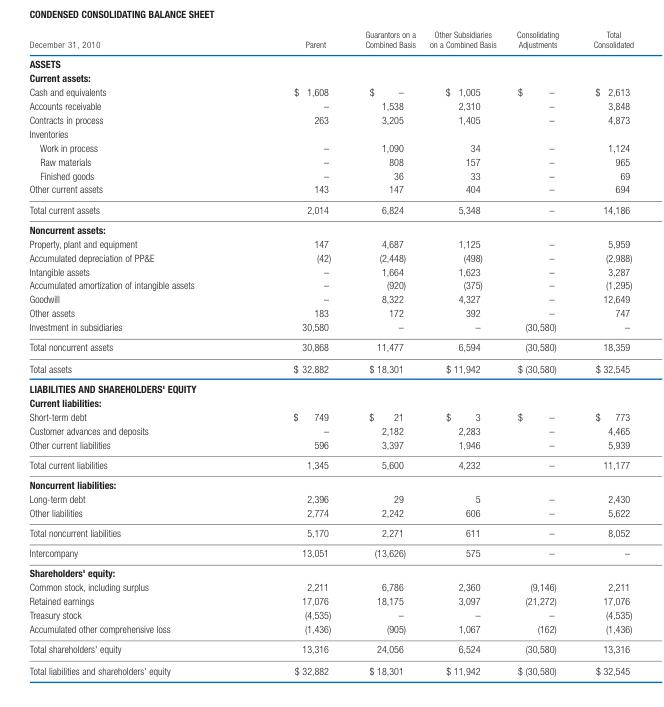table: (28, 28, 633, 675)
table column: (28, 28, 243, 675), (243, 28, 347, 675), (421, 28, 505, 675), (347, 28, 421, 675), (505, 28, 575, 675), (575, 28, 633, 675)
table column header: (28, 28, 633, 53)
table projected row header: (28, 218, 633, 236), (28, 53, 633, 70), (28, 378, 633, 395), (28, 474, 633, 491), (28, 562, 633, 579), (28, 70, 633, 84), (28, 126, 633, 140), (28, 395, 633, 409)
table row: (28, 28, 633, 53), (28, 336, 633, 357), (28, 357, 633, 378), (28, 453, 633, 474), (28, 638, 633, 659), (28, 198, 633, 218), (28, 522, 633, 542), (28, 542, 633, 562), (28, 218, 633, 236), (28, 53, 633, 70), (28, 181, 633, 198), (28, 319, 633, 336), (28, 378, 633, 395), (28, 436, 633, 453), (28, 474, 633, 491), (28, 505, 633, 522), (28, 562, 633, 579), (28, 621, 633, 638), (28, 659, 633, 675), (28, 70, 633, 84), (28, 84, 633, 98), (28, 98, 633, 112), (28, 112, 633, 126), (28, 126, 633, 140), (28, 140, 633, 154), (28, 154, 633, 168), (28, 236, 633, 250), (28, 263, 633, 277), (28, 277, 633, 291), (28, 291, 633, 305), (28, 305, 633, 319), (28, 395, 633, 409), (28, 409, 633, 423), (28, 491, 633, 505), (28, 579, 633, 593), (28, 593, 633, 607), (28, 607, 633, 621), (28, 168, 633, 181), (28, 250, 633, 263), (28, 423, 633, 436)
